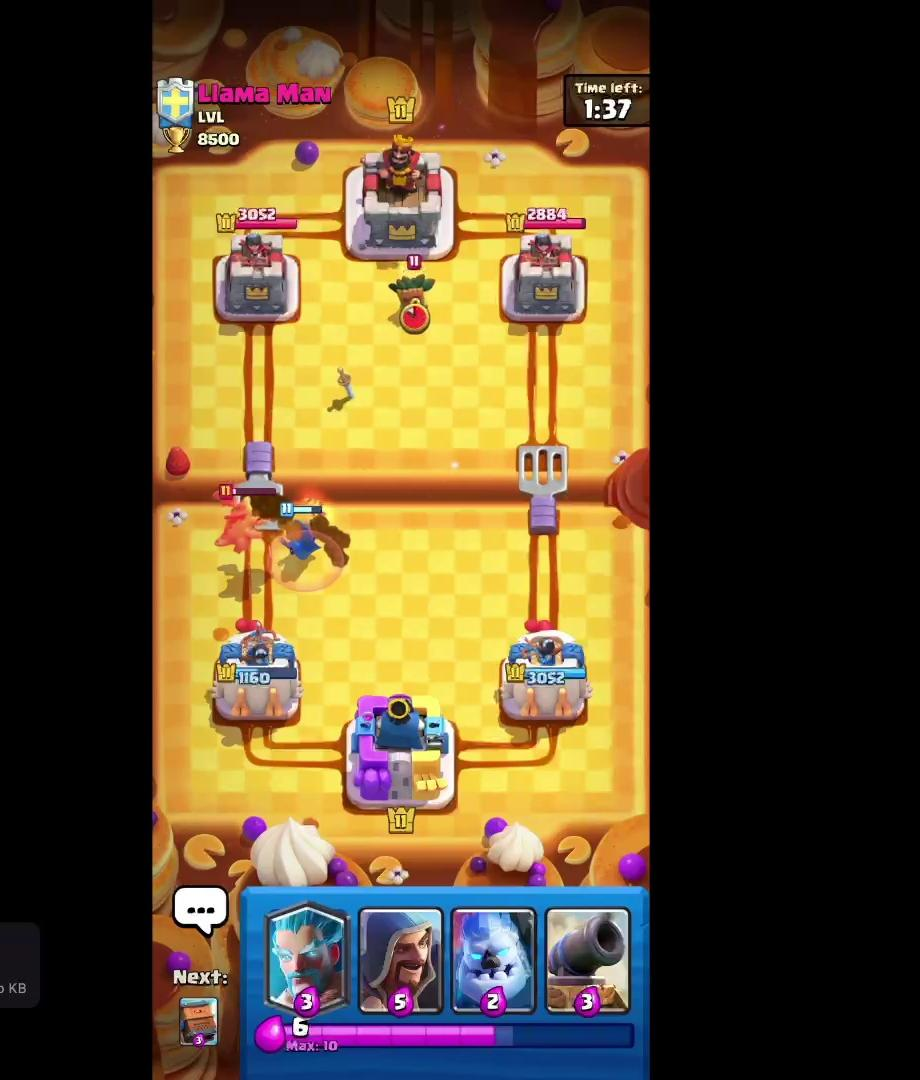Baby Dragon: (217, 482, 275, 562)
